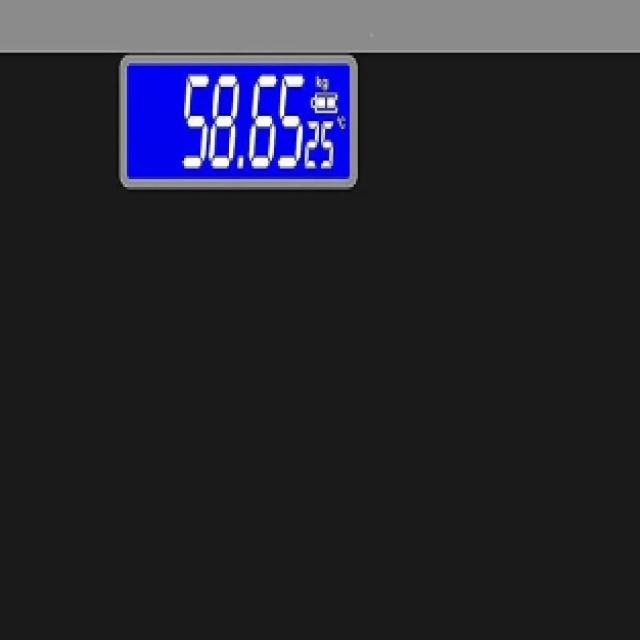.: (236, 149, 247, 178)
2: (303, 115, 321, 179)
5: (181, 72, 210, 176), (279, 68, 306, 176), (319, 116, 337, 176)
6: (247, 69, 279, 172)
8: (206, 72, 238, 167)
screen: (129, 62, 351, 180)
